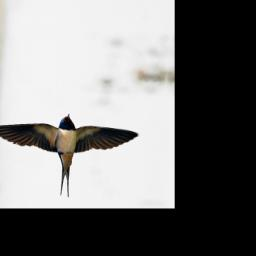Swallow: (0, 109, 145, 202)
